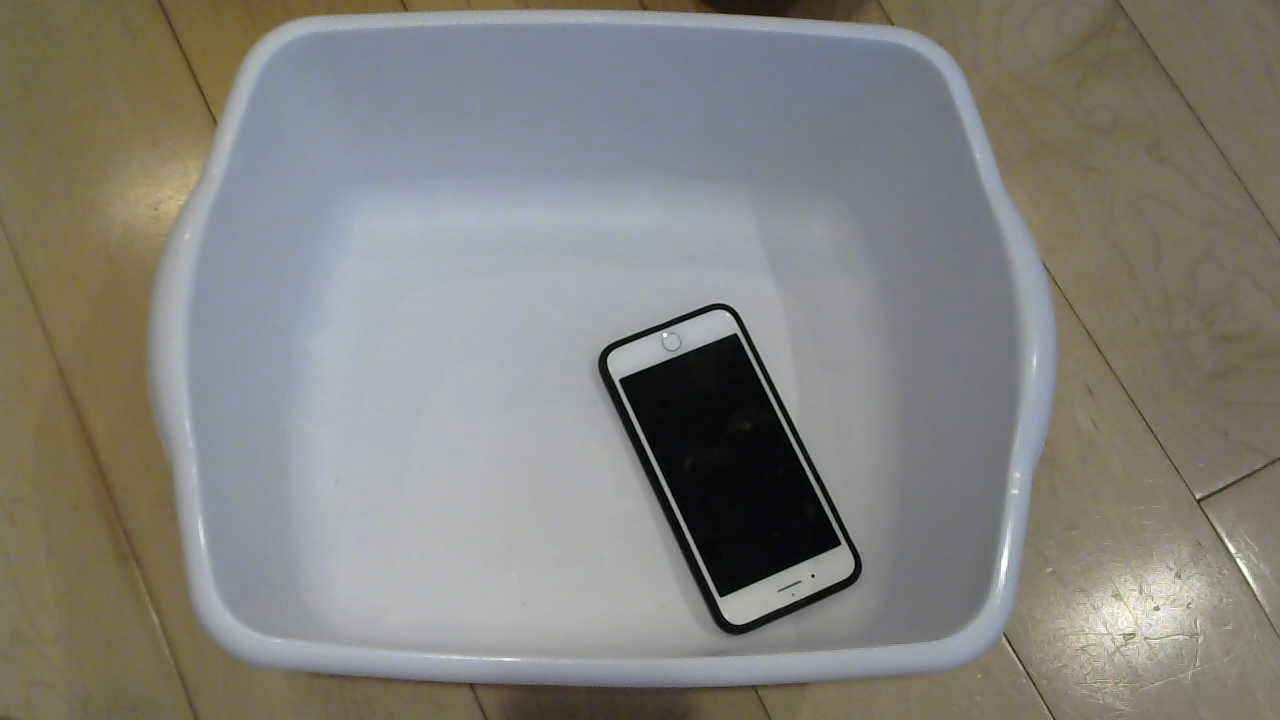phone: (593, 301, 872, 635)
